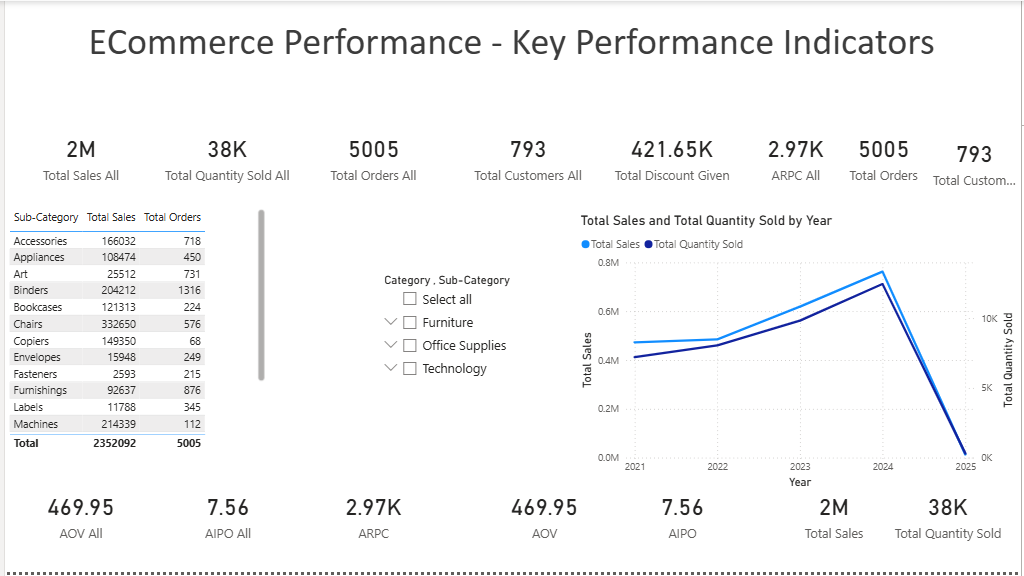

The dashboard page shown, as its layout file describes it:
{"tool":"powerbi","page":{"name":"KPIs","canvas":[1280,720],"ordinal":0},"visuals":[{"type":"card","fields":{"Values":["Sales.Total Sales All"]},"box":[0,132.3,190.9,124.7],"z":0},{"type":"card","fields":{"Values":["Sales.Total Quantity Sold All"]},"box":[190.9,132.3,177.6,124.7],"z":1},{"type":"card","fields":{"Values":["Sales.Total Orders All"]},"box":[368.5,132.3,190.9,124.7],"z":2},{"type":"card","fields":{"Values":["Sales.Total Customers All"]},"box":[559.4,132.3,198.4,124.7],"z":3},{"type":"card","fields":{"Values":["Sales.Total Discount Given"]},"box":[757.8,132.3,164.4,124.7],"z":4},{"type":"card","fields":{"Values":["Sales.ARPC ALL"]},"box":[922.2,132.3,147.4,124.7],"z":5},{"type":"card","fields":{"Values":["Sales.AOV ALL"]},"box":[0,570.7,190.9,149.3],"z":6},{"type":"card","fields":{"Values":["Sales.AIPO ALL"]},"box":[185.2,570.7,190.9,149.3],"z":7},{"type":"card","fields":{"Values":["Sales.ARPC(Revenue Per customer)"]},"box":[368.5,570.7,190.9,149.3],"z":8},{"type":"card","fields":{"Values":["Sales.Average Order Value"]},"box":[583.9,570.7,190.9,149.3],"z":9},{"type":"card","fields":{"Values":["Sales.Average Items Per Order"]},"box":[757.8,570.7,190.9,149.3],"z":10},{"type":"card","fields":{"Values":["Sales.Total Sales"]},"box":[948.7,570.7,190.9,149.3],"z":11},{"type":"card","fields":{"Values":["Sales.Total Quantity Sold"]},"box":[1096.1,570.7,183.3,149.3],"z":12},{"type":"card","fields":{"Values":["Sales.Total Orders"]},"box":[1045,132.3,122.8,124.7],"z":13},{"type":"card","fields":{"Values":["Sales.Total Customers"]},"box":[1162.2,145.5,117.2,111.5],"z":14},{"type":"slicer","fields":{"Values":["Sales.Products.Category","Sales.Products.Sub-Category"]},"box":[464.9,338.3,255.1,206],"z":15},{"type":"tableEx","fields":{"Values":["Sales.Products.Sub-Category","Sales.Total Sales","Sales.Total Orders"]},"box":[0,257,332.6,313.7],"z":16},{"type":"lineChart","fields":{"Category":["Sales.Delivery Date.Variation.Date Hierarchy.Year","Sales.Delivery Date.Variation.Date Hierarchy.Quarter","Sales.Delivery Date.Variation.Date Hierarchy.Month","Sales.Delivery Date.Variation.Date Hierarchy.Day"],"Y":["Sales.Total Sales"],"Y2":["Sales.Total Quantity Sold"]},"box":[720,266.5,555.6,351.5],"z":17},{"type":"textbox","box":[100.2,15.1,1120.6,90.7],"z":18}]}

Visuals, with their boxes in screenshot pixels (x1, y1, x2, y2), scaled from the page's 1280x720 canvas onto the 1024x576 screenshot:
card - Sales.Total Sales All: (x1=0, y1=106, x2=153, y2=206)
card - Sales.Total Quantity Sold All: (x1=153, y1=106, x2=295, y2=206)
card - Sales.Total Orders All: (x1=295, y1=106, x2=448, y2=206)
card - Sales.Total Customers All: (x1=448, y1=106, x2=606, y2=206)
card - Sales.Total Discount Given: (x1=606, y1=106, x2=738, y2=206)
card - Sales.ARPC ALL: (x1=738, y1=106, x2=856, y2=206)
card - Sales.AOV ALL: (x1=0, y1=457, x2=153, y2=575)
card - Sales.AIPO ALL: (x1=148, y1=457, x2=301, y2=575)
card - Sales.ARPC(Revenue Per customer): (x1=295, y1=457, x2=448, y2=575)
card - Sales.Average Order Value: (x1=467, y1=457, x2=620, y2=575)
card - Sales.Average Items Per Order: (x1=606, y1=457, x2=759, y2=575)
card - Sales.Total Sales: (x1=759, y1=457, x2=912, y2=575)
card - Sales.Total Quantity Sold: (x1=877, y1=457, x2=1023, y2=575)
card - Sales.Total Orders: (x1=836, y1=106, x2=934, y2=206)
card - Sales.Total Customers: (x1=930, y1=116, x2=1023, y2=206)
slicer - Sales.Products.Category x Sales.Products.Sub-Category: (x1=372, y1=271, x2=576, y2=435)
tableEx - Sales.Products.Sub-Category x Sales.Total Sales: (x1=0, y1=206, x2=266, y2=457)
lineChart - Sales.Delivery Date.Variation.Date Hierarchy.Year x Sales.Delivery Date.Variation.Date Hierarchy.Quarter: (x1=576, y1=213, x2=1020, y2=494)
textbox: (x1=80, y1=12, x2=977, y2=85)
